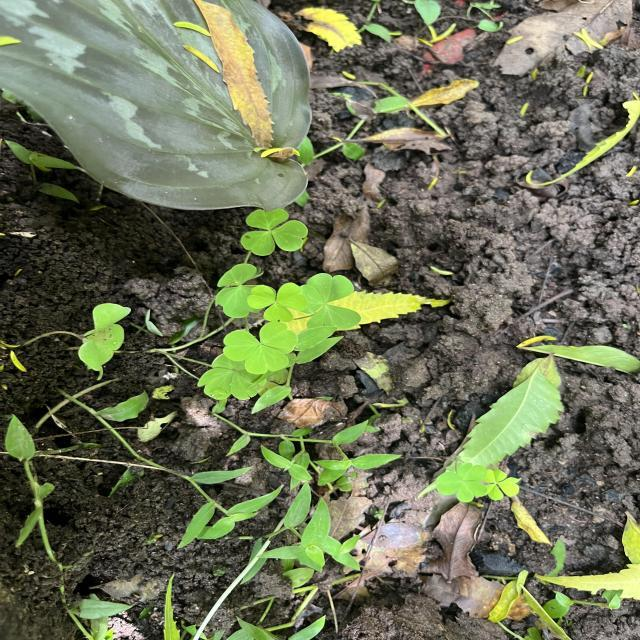Oxalis corniculata: (221, 320, 298, 376), (300, 272, 362, 331), (240, 207, 308, 256), (246, 282, 308, 323)
